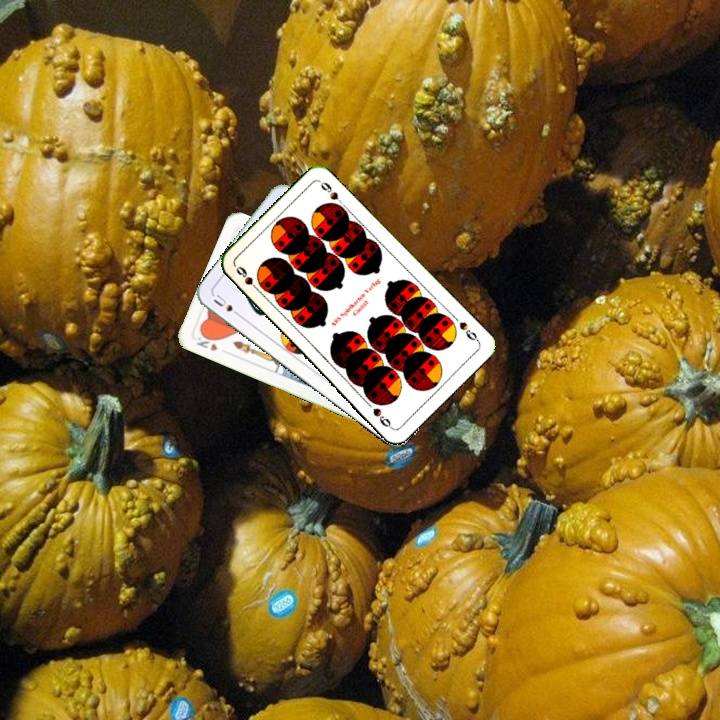HK: (192, 330, 220, 354)
S9: (232, 262, 263, 295), (455, 318, 482, 345)
SU: (209, 290, 245, 320)
